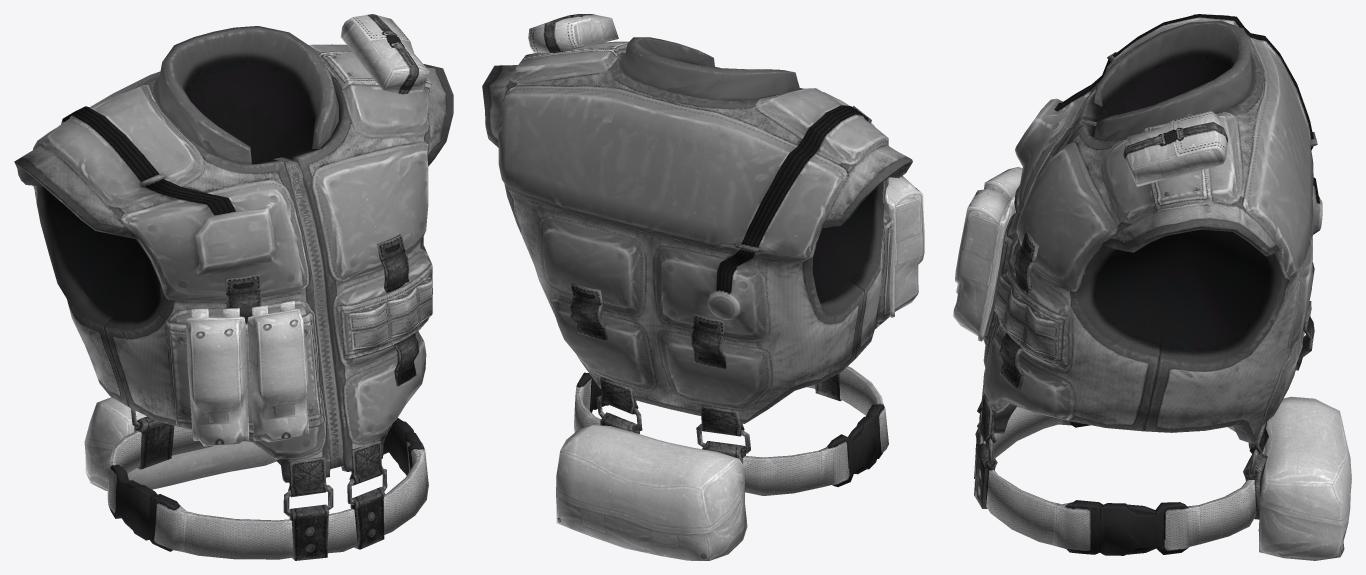
The model's file is SurvivorMale_Armor_Tactical_LOD0.glb.
3 renders of one model, left to right at view 1: azimuth 30°, elevation 25°; view 2: azimuth 150°, elevation 25°; view 3: azimuth 270°, elevation 25°, orthographic. The views are drawn at different scales.
Visible parts, largest first — view 1: Hoodie; view 2: Hoodie; view 3: Hoodie.
Part boxes in pixels (box(x1,y1,x2,y2)): Hoodie: box(14, 14, 453, 560); Hoodie: box(482, 14, 924, 560); Hoodie: box(953, 14, 1351, 560).
Bounding box in the file's own units: 0.5525 × 0.5931 × 0.4424.
1 material, 1 textured.
